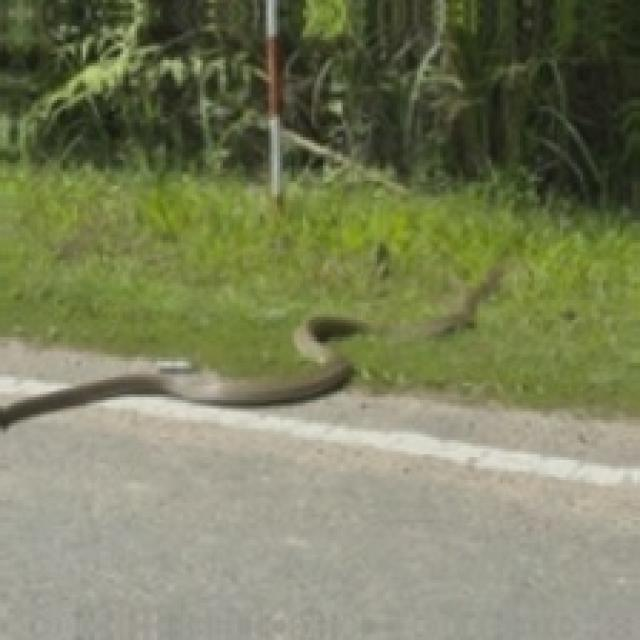king cobra: (0, 263, 500, 426)
